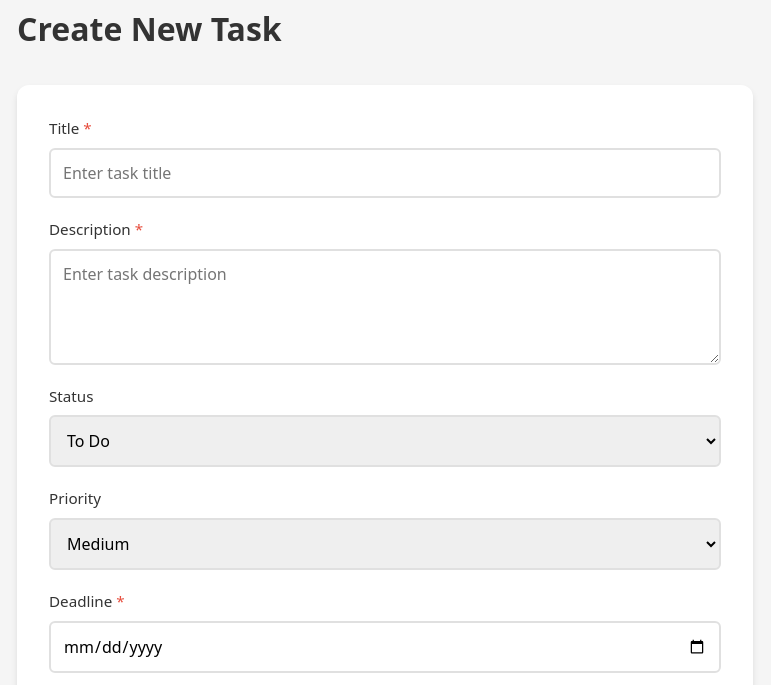
Test: TaskCreate › should display error message for description validation
The image size is (771, 685).
In the text box labelled "Description *": (385, 307) [49,249,721,365], type "a"
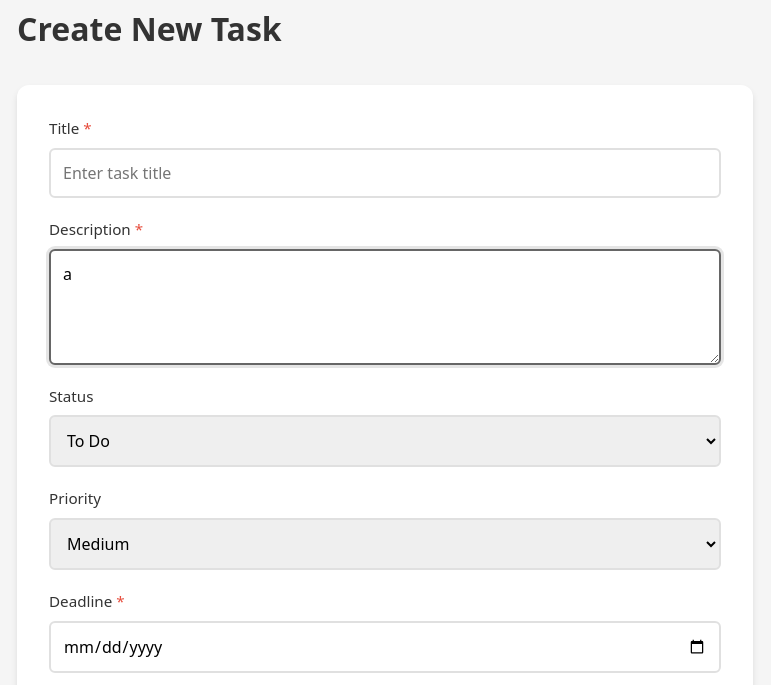
Clear the text box labelled "Description *": (385, 307) [49,249,721,365]
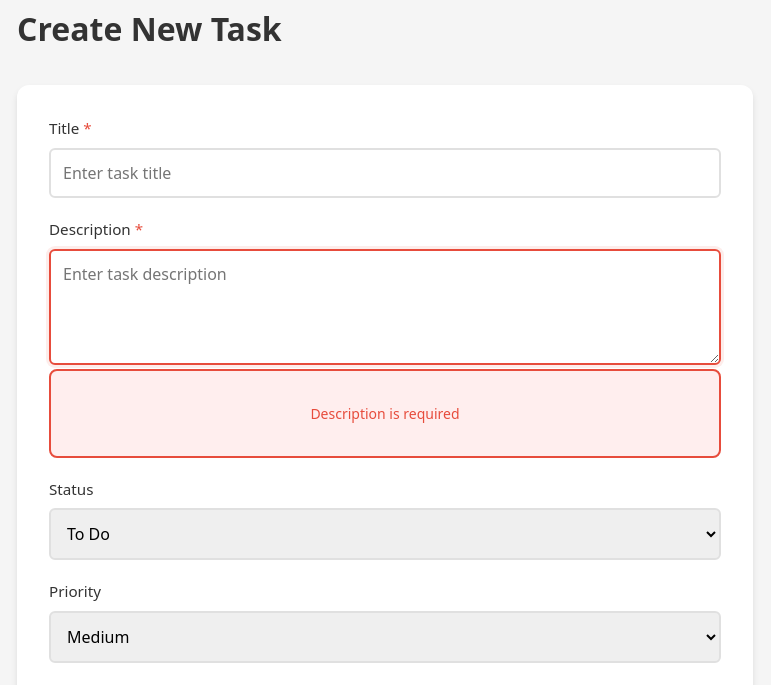
Result: the text "Description is required" is shown at [49,369,721,458]
